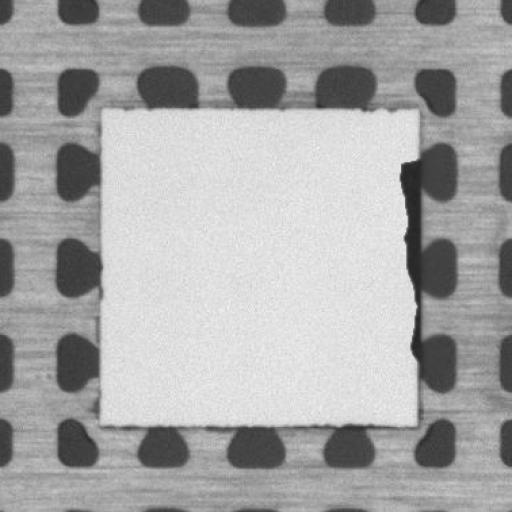DIE_BROKEN: (394, 152, 423, 368)
